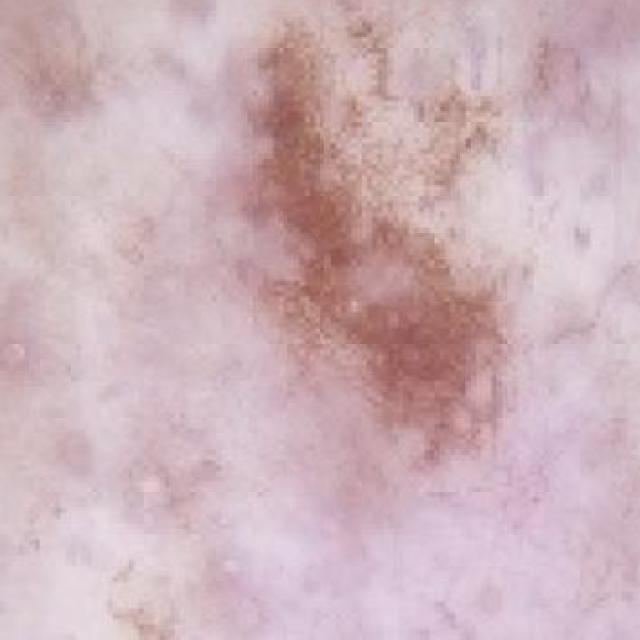BKL: (222, 0, 640, 640)
